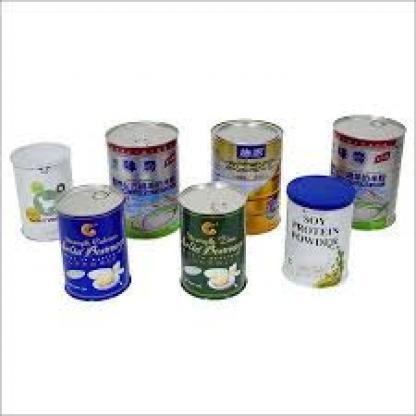trash: (331, 115, 405, 229), (106, 121, 178, 237), (57, 185, 130, 299), (211, 120, 282, 233), (283, 176, 354, 287), (179, 183, 246, 298), (11, 143, 71, 240)
